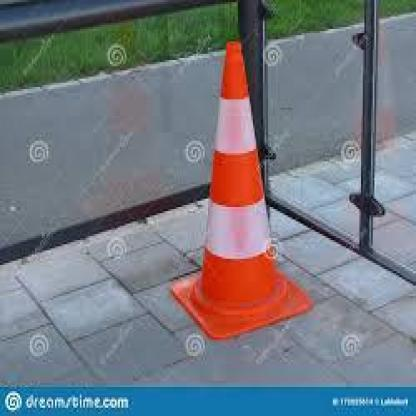other: (204, 146, 302, 332)
